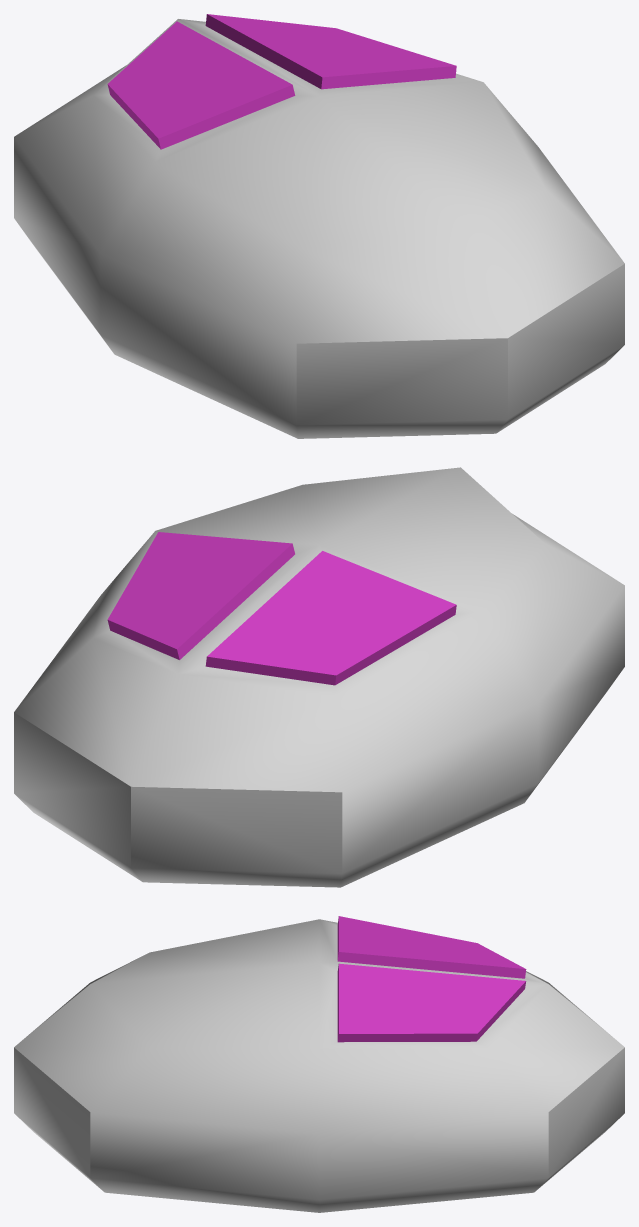
File: PC_Mouse.fbx
3 views of the same model, one above another, from view 1: azimuth 30°, elevation 25°; view 2: azimuth 150°, elevation 25°; view 3: azimuth 270°, elevation 25° (orthographic). The views are drawn at different scales.
Visible parts, largest first — view 1: Cube; view 2: Cube; view 3: Cube.
Part boxes in pixels (bbox=[...]): Cube: bbox=[14, 14, 624, 438]; Cube: bbox=[14, 467, 624, 887]; Cube: bbox=[14, 916, 624, 1212].
Bounding box in the file's own units: 0.2799 × 0.1422 × 0.4174.
